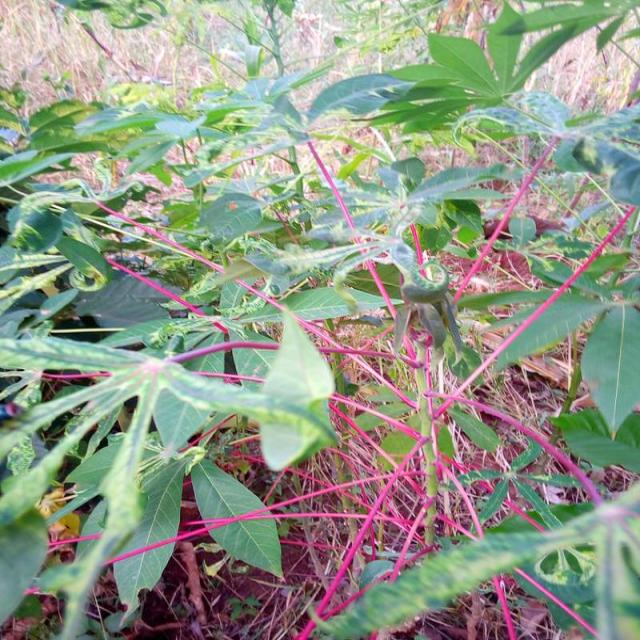cassava leaf: (258, 309, 338, 472), (190, 457, 284, 579)
